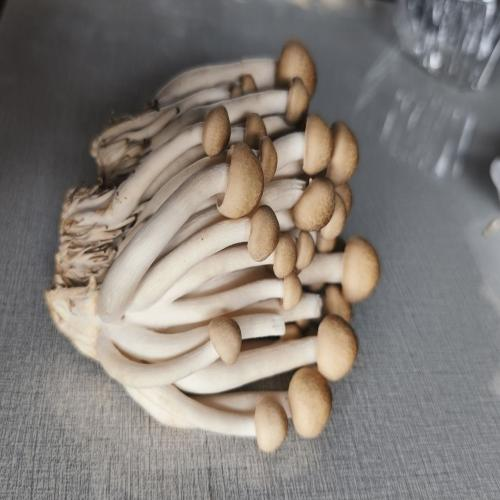Enoki Mushroom: (13, 0, 435, 470)
